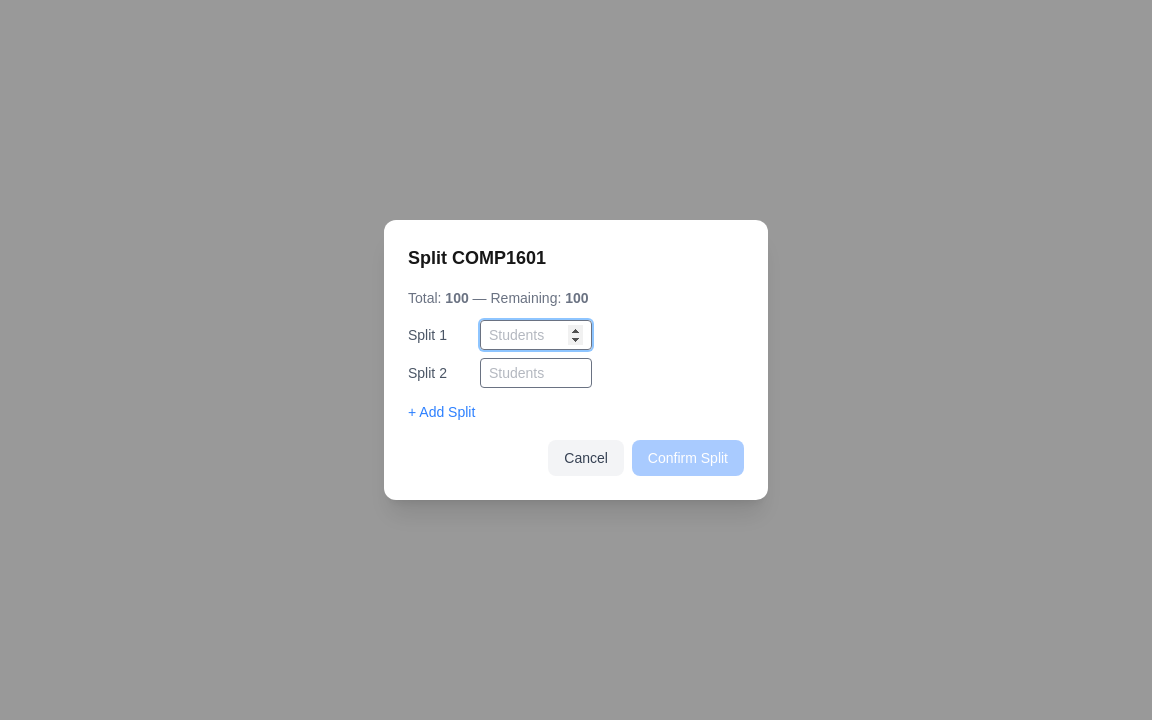
Test: SplitExamDialog › should add a third split when "+ Add Split" is clicked
The width and height of the screenshot is (1152, 720).
Click the button "+ Add Split": click(442, 412) [408,402,475,422]
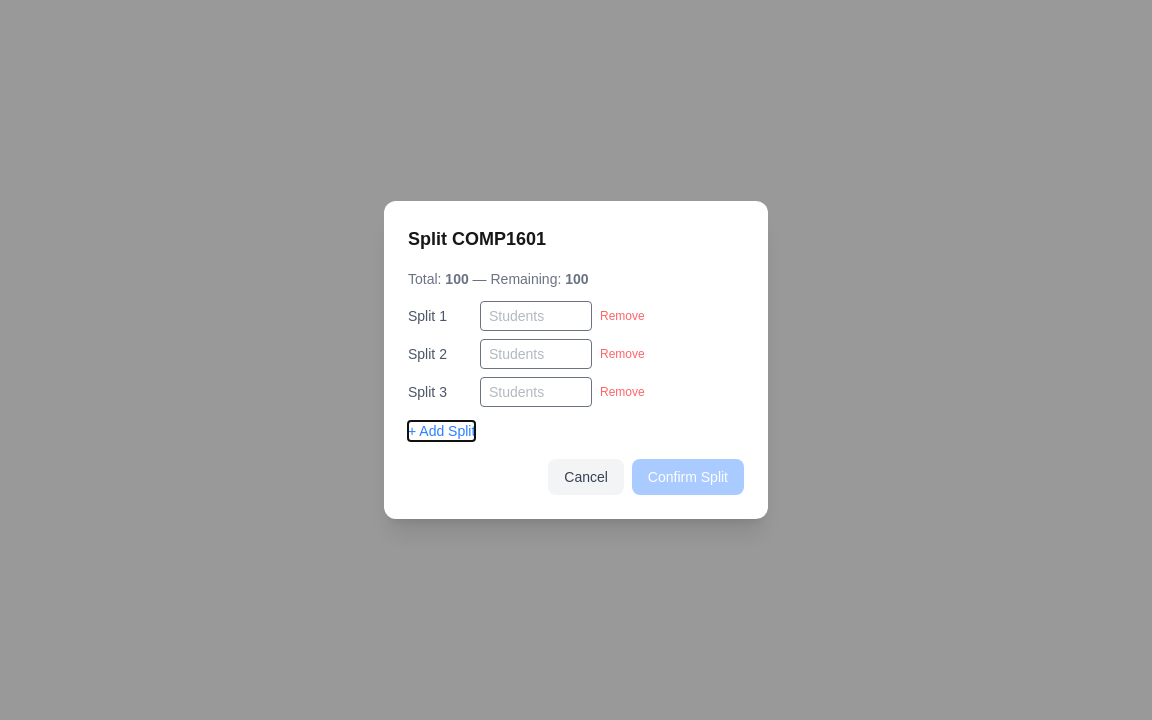
Check: the text "Split 3" is shown, box [408,384,447,400]
